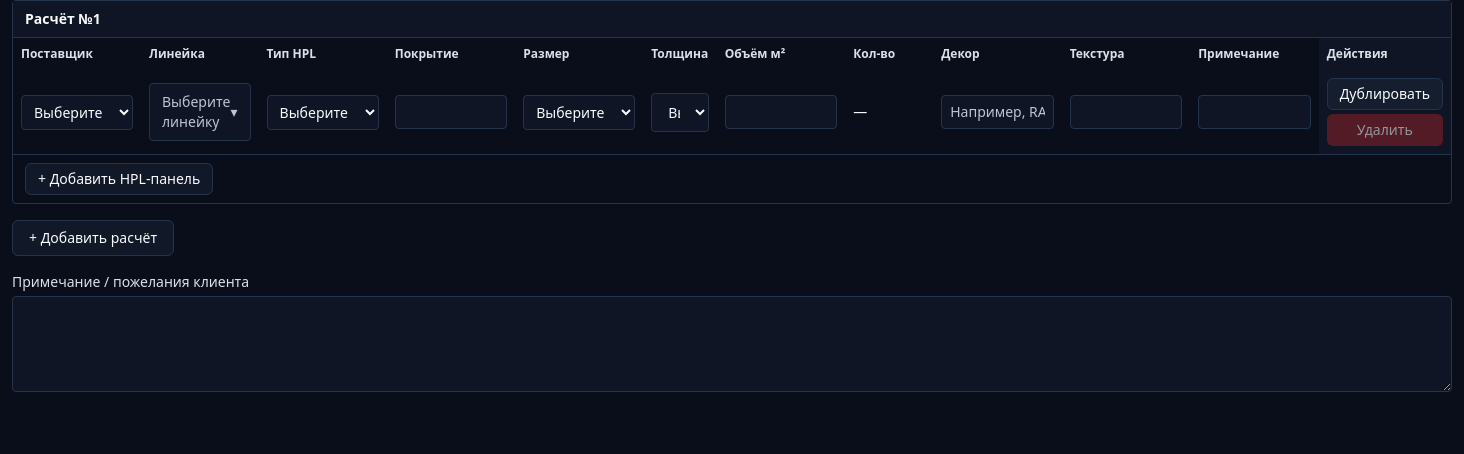
Test: CalculationRequestForm › lets HEAD type arbitrary Decor text without a PanelColor catalog
Expected: the dropdown named "Размер, строка 1" is shown, [523, 94, 635, 130]
Type "Concrete Grey 7016" into the field named "Декор, строка 1" at {"x": 997, "y": 112}, box [941, 95, 1054, 129]
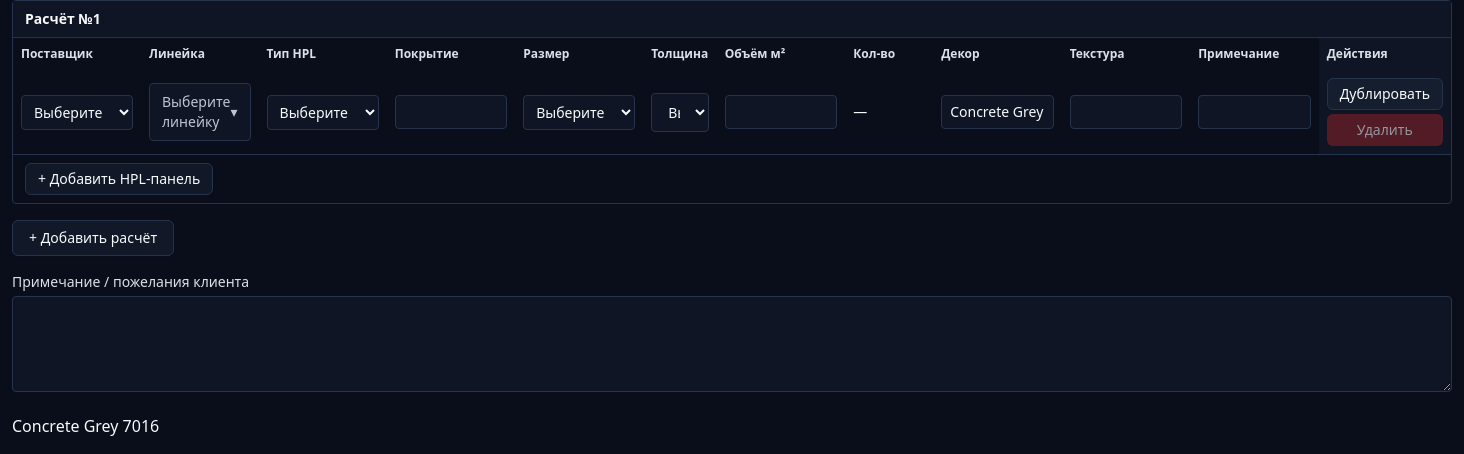
Result: the text named "Текущий decor" reads "Concrete Grey 7016" at [12, 415, 159, 437]
